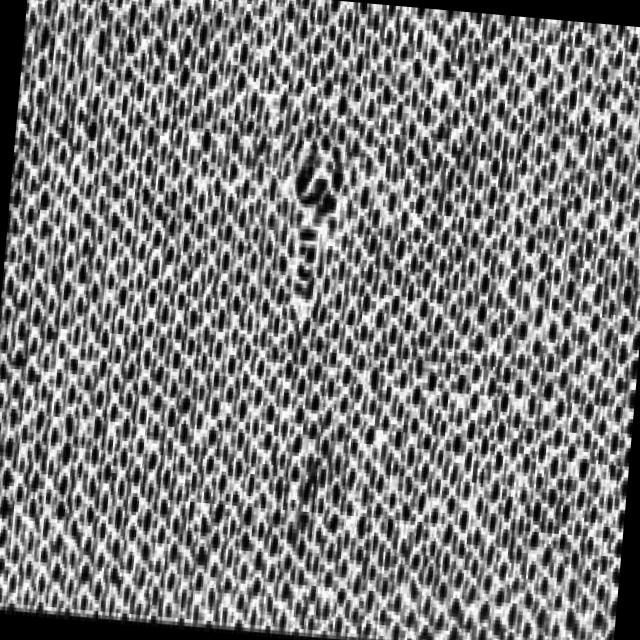cut: (266, 125, 360, 363)
